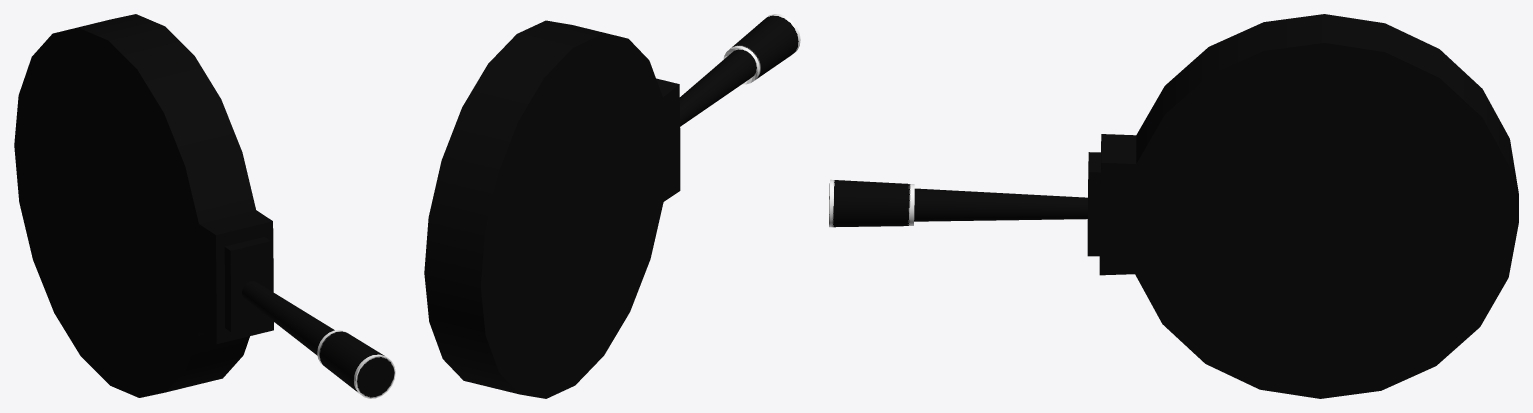
Rendered from Fuse box Handle 2.fbx.
The picture shows the model from 3 angles, left to right: view 1: azimuth 30°, elevation 25°; view 2: azimuth 150°, elevation 25°; view 3: azimuth 270°, elevation 25°; orthographic projection. The views are drawn at different scales.
Parts seen in each view (by area): view 1: pCylinder159; view 2: pCylinder159; view 3: pCylinder159.
Part boxes in pixels (x1,y1,x2,y2): pCylinder159: (14,14,395,398); pCylinder159: (424,14,800,398); pCylinder159: (829,14,1518,398).
Bounding box in the file's own units: 0.3297 × 1.89 × 3.33.
